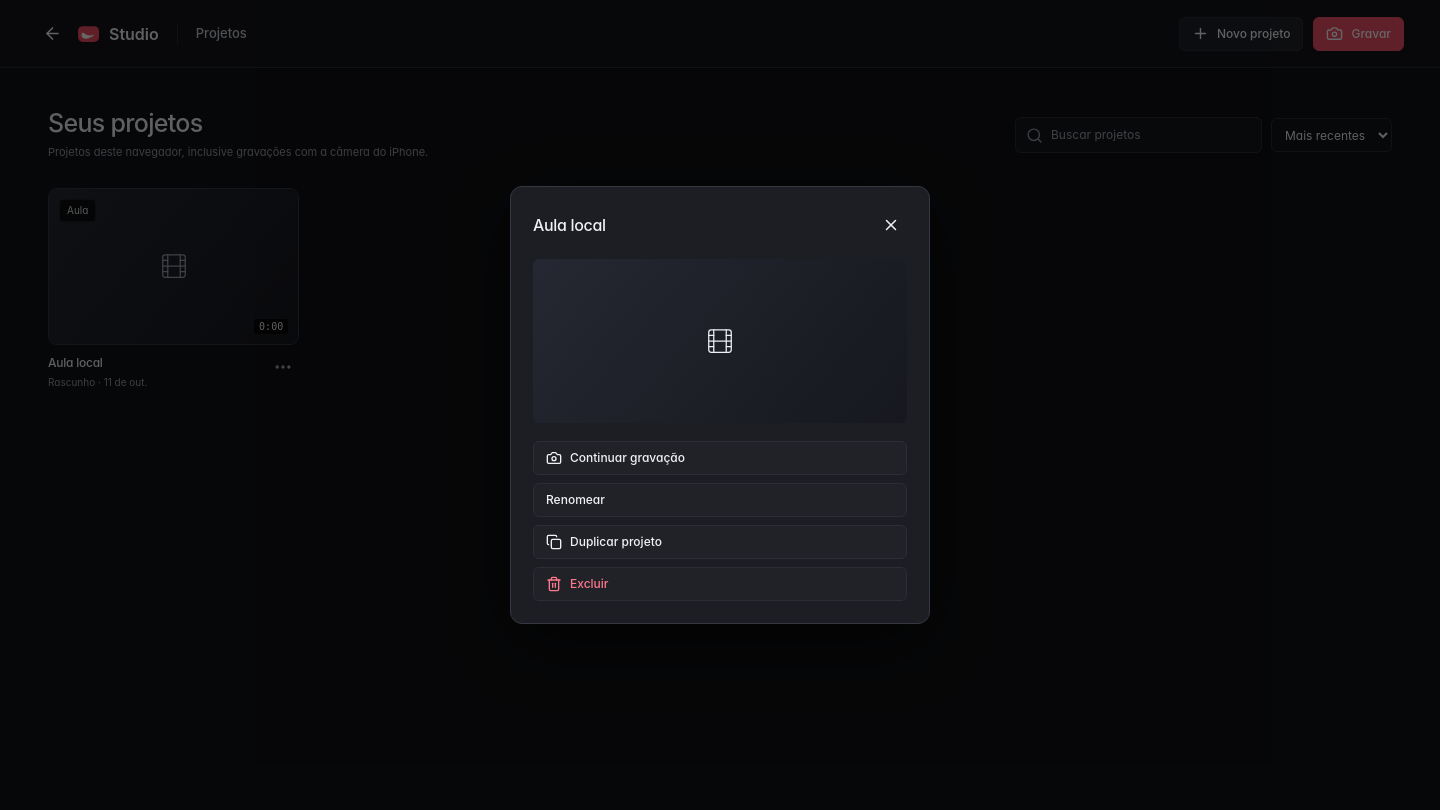
Test: galeria desktop de projetos reais › hold abre o mesmo menu de opções e suprime navegação no click seguinte
Earlier steps of the test are not shown.
Click the button named "Fechar opções".
click(891, 225)  # box [875,209,907,241]
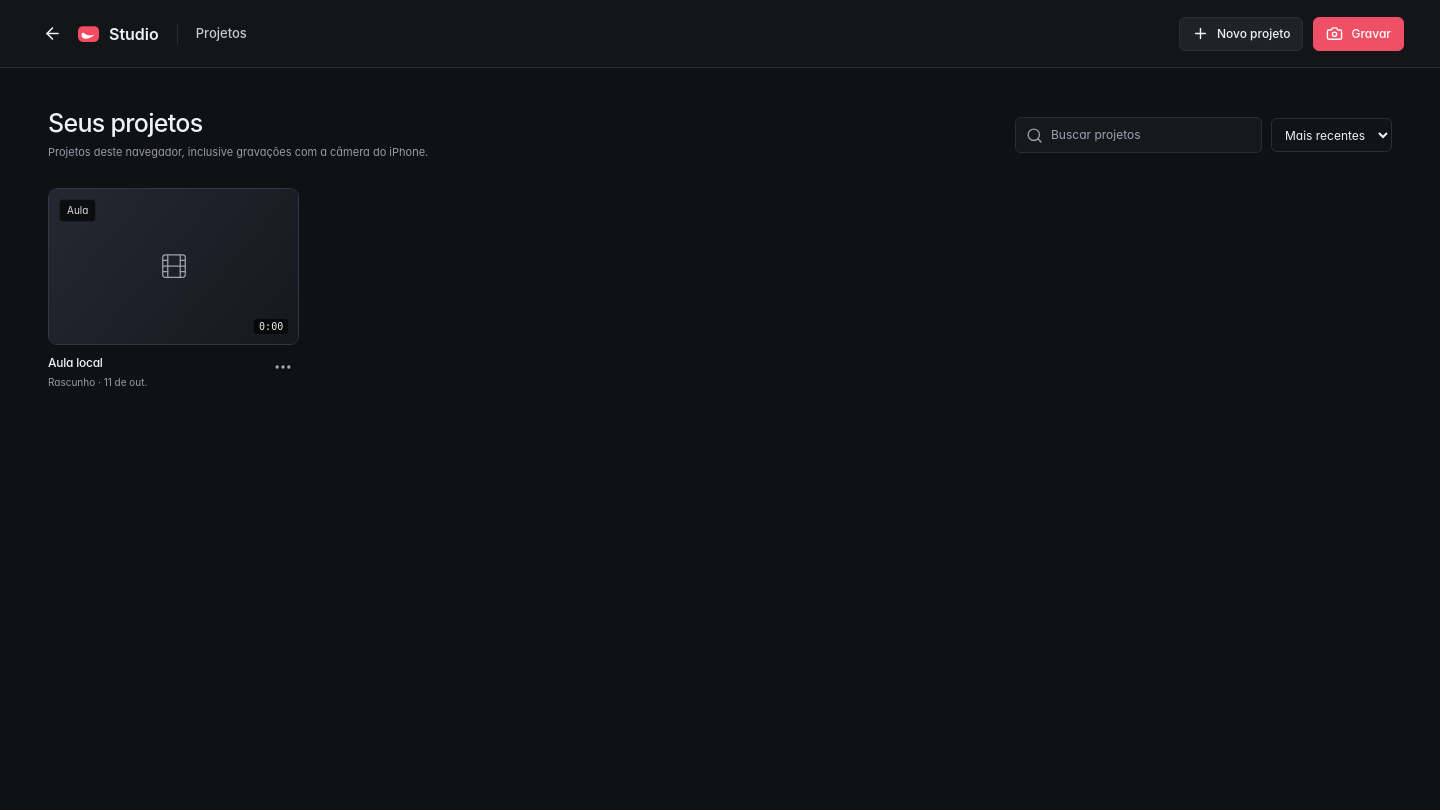
Click the button named "Opções de Aula local".
click(283, 367)  # box [267,351,299,383]
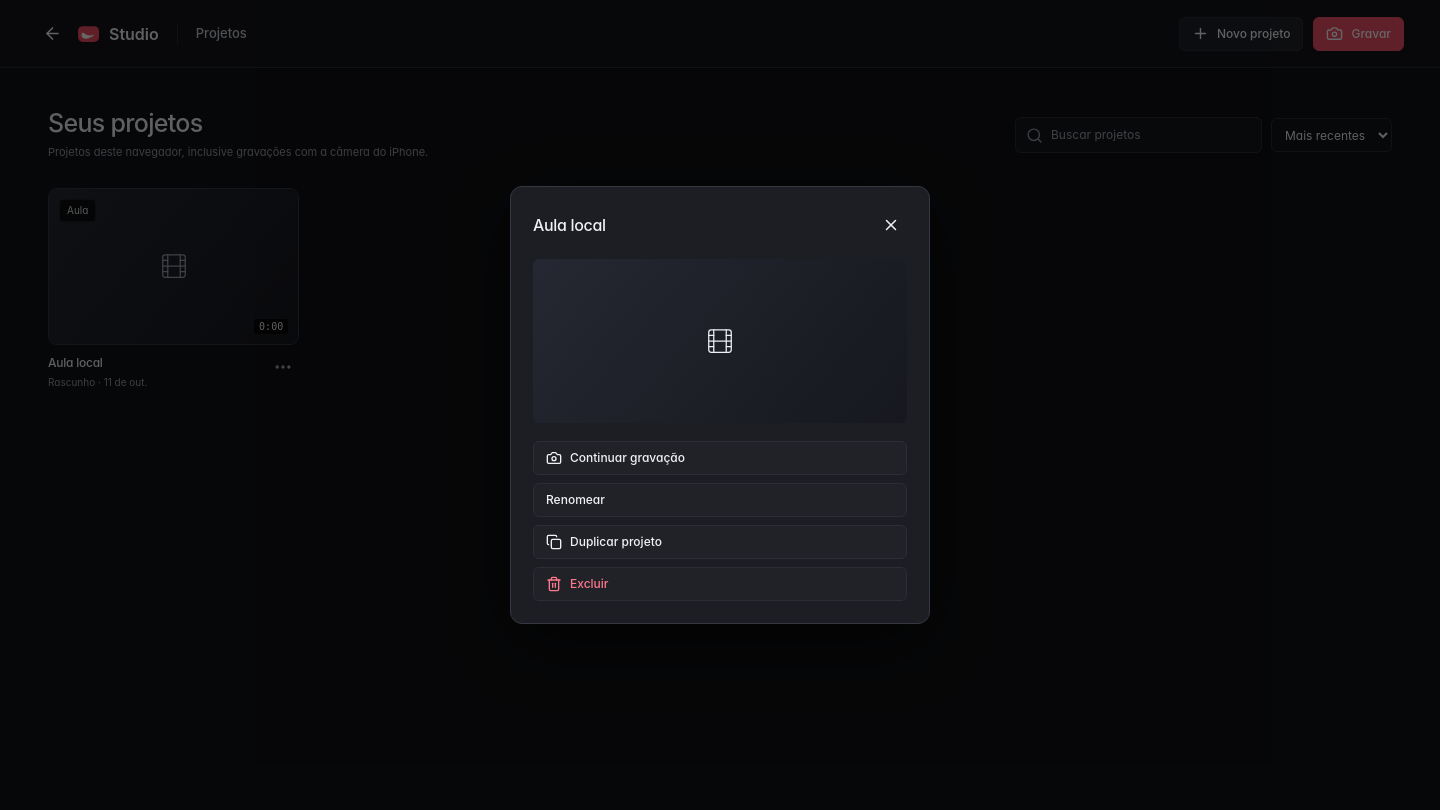
Now the dialog shows "Duplicar projeto", box [533,525,907,559]
